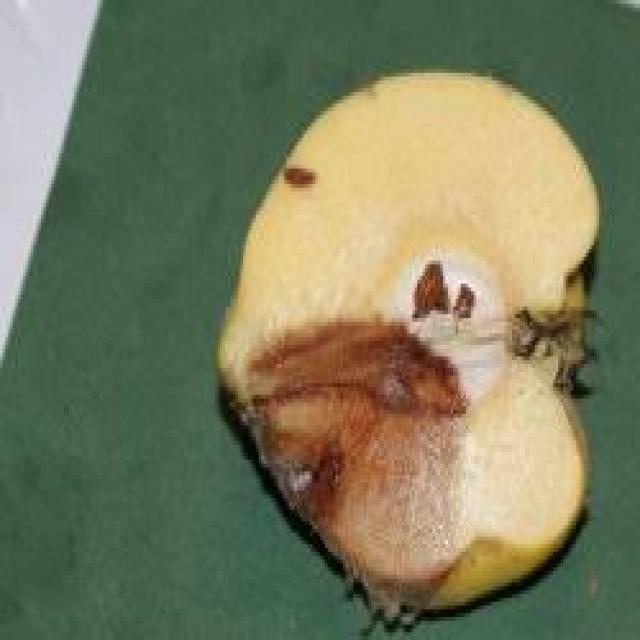organic waste: (215, 61, 604, 621)
